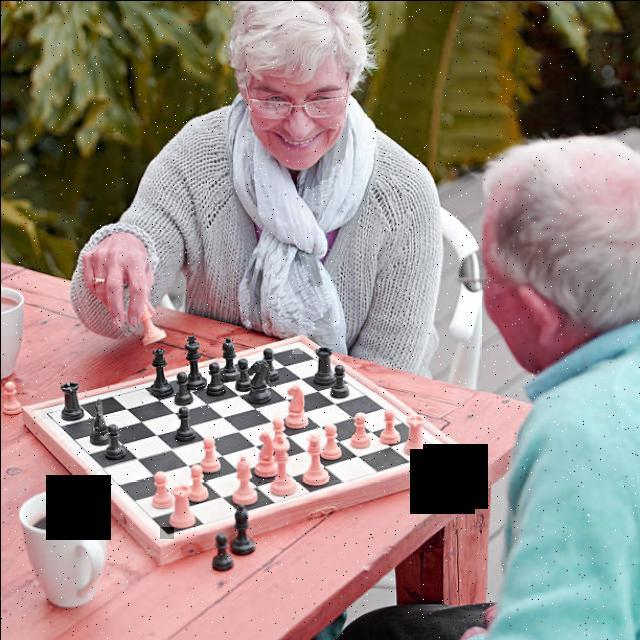chess-table-corners: (159, 526, 173, 538), (40, 408, 52, 418), (432, 446, 444, 456), (291, 343, 302, 353)
